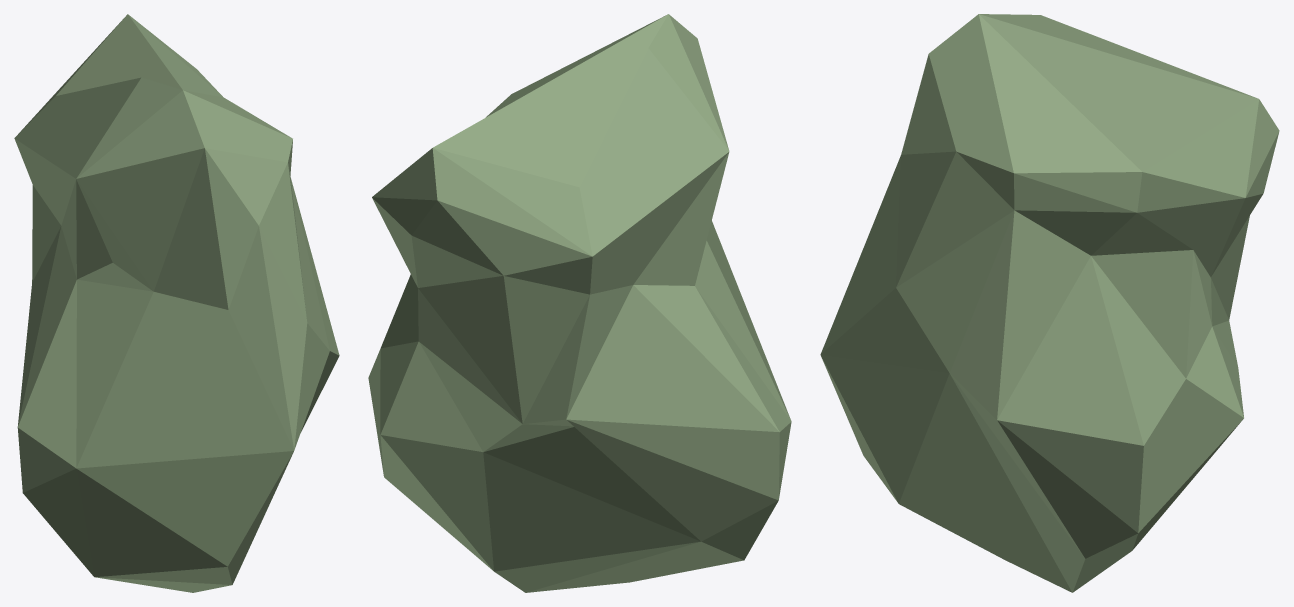
Rendered from RawUranium.fbx.
3 renders of one model, left to right at view 1: azimuth 30°, elevation 25°; view 2: azimuth 150°, elevation 25°; view 3: azimuth 270°, elevation 25°, orthographic. The views are drawn at different scales.
Parts seen in each view (by area): view 1: Cube; view 2: Cube; view 3: Cube.
Part boxes in pixels (x1,y1,x2,y2): Cube: [14, 14, 339, 592]; Cube: [368, 14, 791, 592]; Cube: [820, 14, 1279, 592].
Size of the model in its own units: 209 by 314 by 244.
